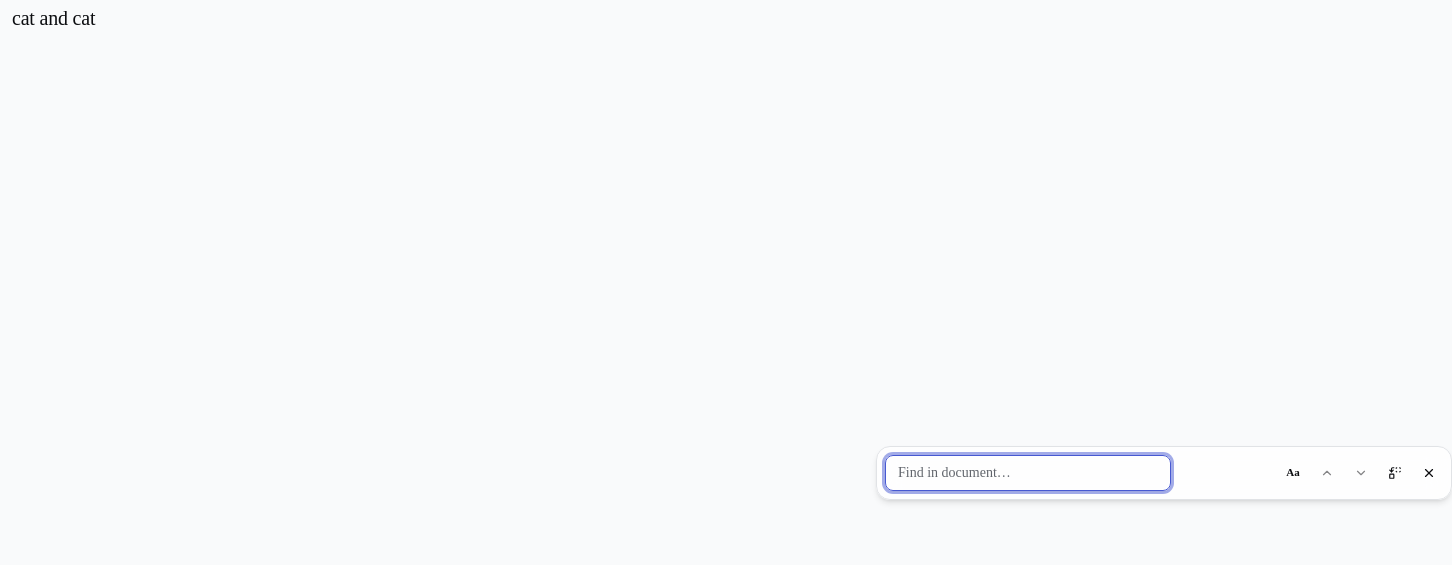
Test: replacing › keeps the replace field hidden until the expander is used
Expected: the element named "find and replace" is shown, [876,446,1451,500]
Expected: the field with placeholder "Replace with…" is not shown
Click the button named "replace options" at (1395, 472), box [1381,458,1409,486]
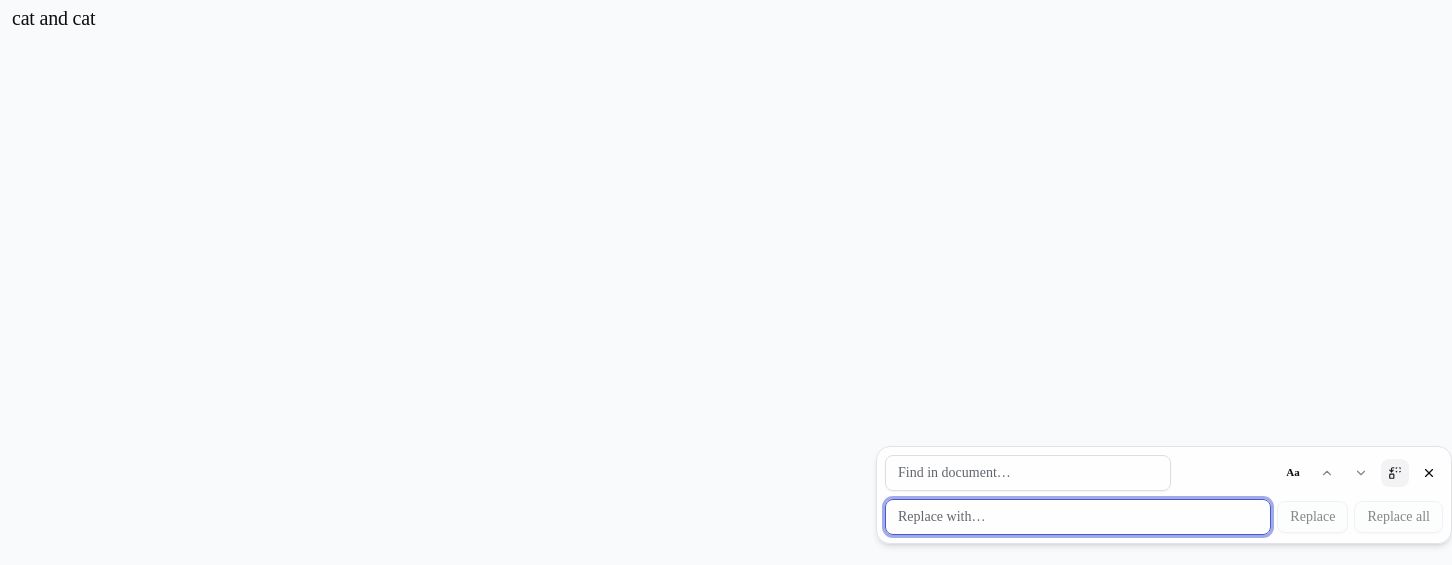
Now the field with placeholder "Replace with…" is shown, box [885,498,1271,534]
